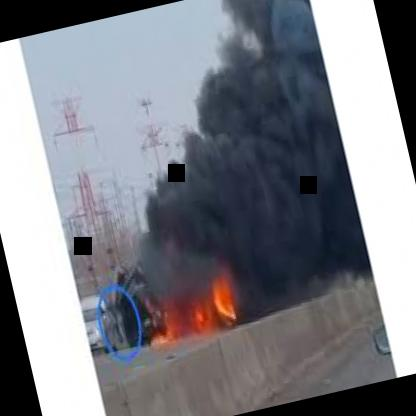fire: (204, 46, 353, 254), (164, 247, 248, 347)
